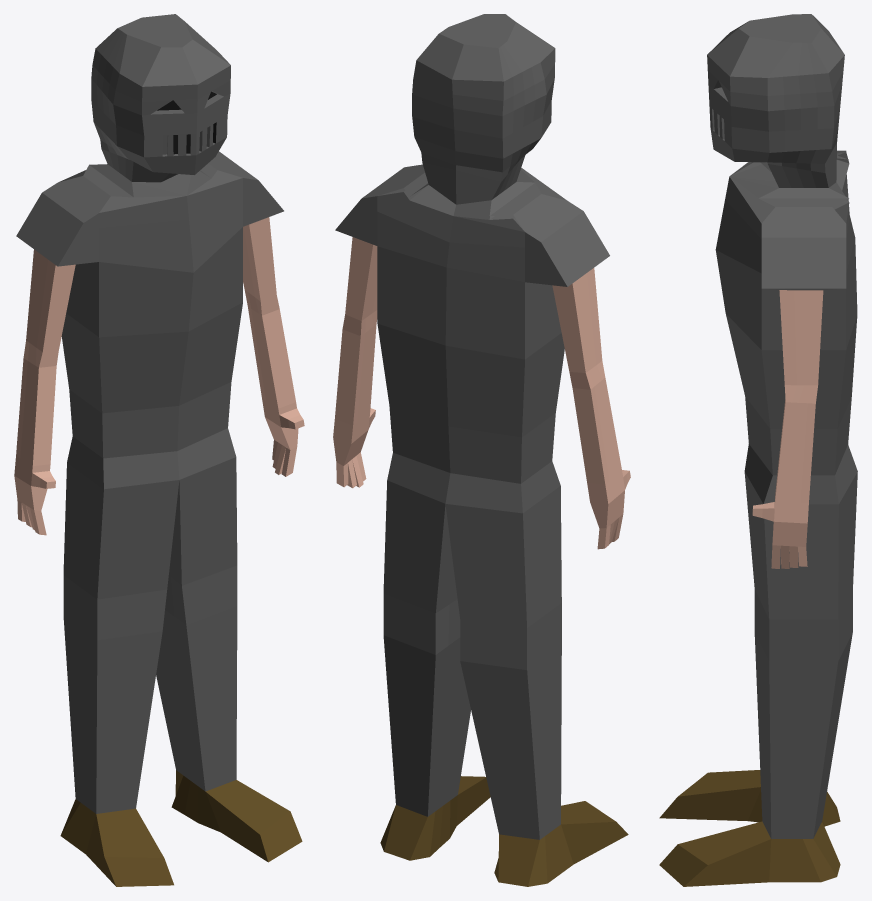
File: prince.fbx
The picture shows the model from 3 angles, left to right: view 1: azimuth 30°, elevation 25°; view 2: azimuth 150°, elevation 25°; view 3: azimuth 270°, elevation 25°; orthographic projection. The views are drawn at different scales.
Visible parts, largest first — view 1: Cube; view 2: Cube; view 3: Cube.
Part boxes in pixels (x1,y1,x2,y2): Cube: (14, 14, 304, 886); Cube: (333, 14, 630, 886); Cube: (659, 14, 857, 886).
Size of the model in its own units: 63.23 by 180 by 39.8.
